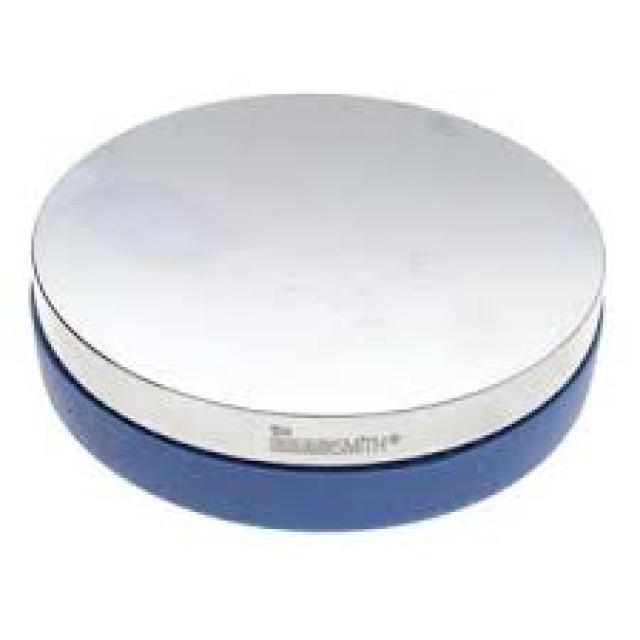Turning: (34, 61, 620, 540)
